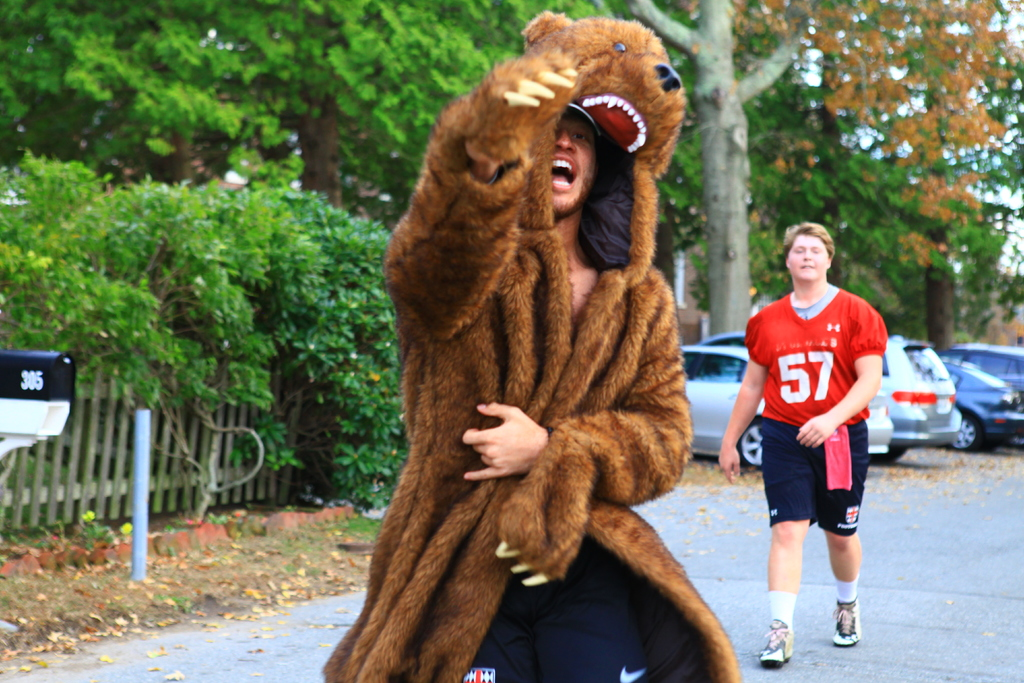cars: (692, 327, 961, 465), (679, 347, 893, 472), (937, 351, 1022, 452), (943, 341, 1023, 426)
